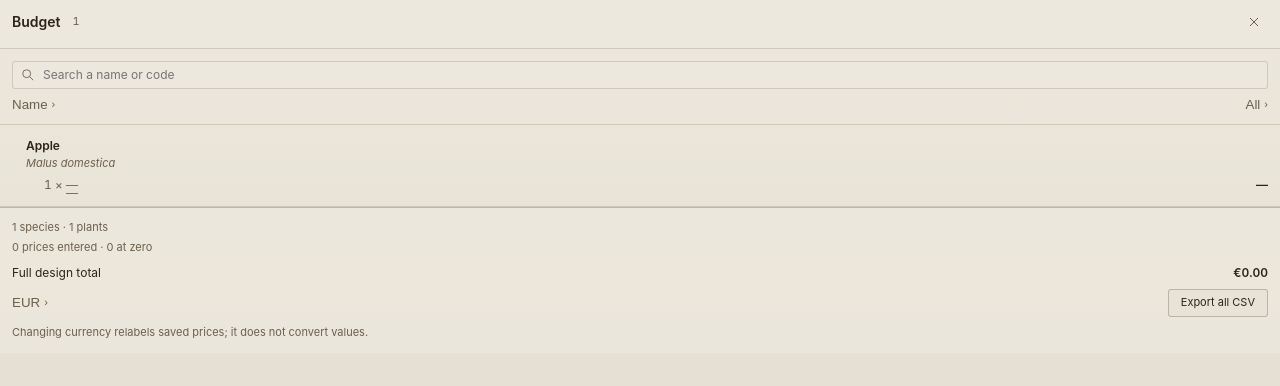
Scenario: Budget Item workbench › rejects invalid blur and lets Escape suppress a later valid blur
Click the button "—".
click(72, 185)  # box 66,176 -> 78,194
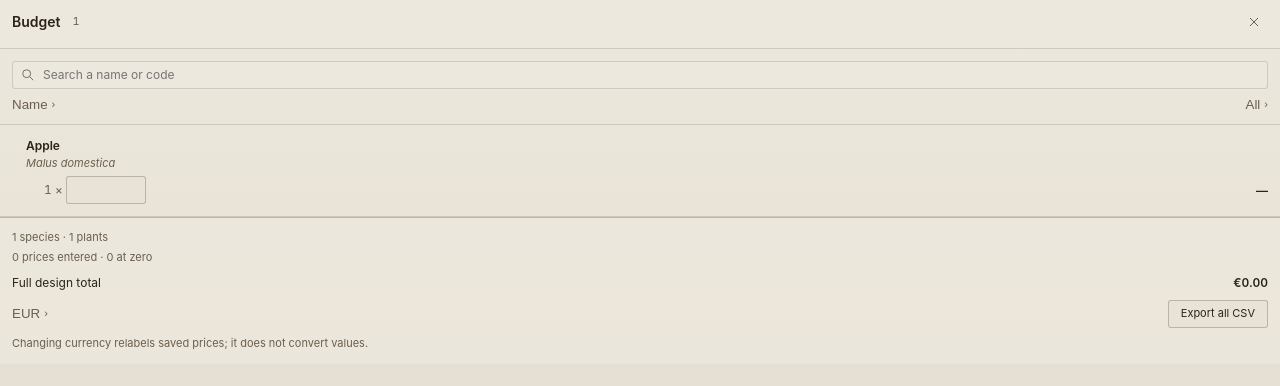
Type "-2" into the number field.
click(106, 190); type("-2")  # box 66,176 -> 146,204
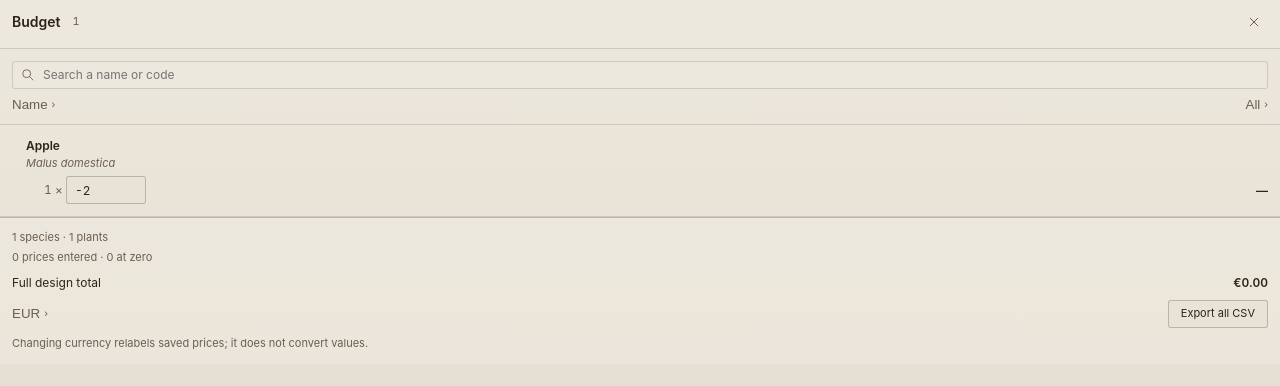
Leave the number field, box 66,176 -> 146,204
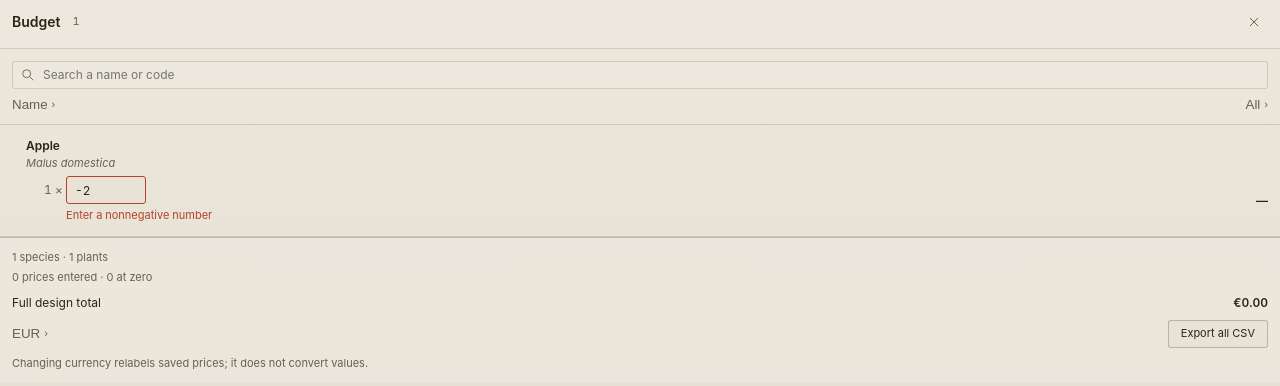
Now the message "Enter a nonnegative number" is shown, box 66,208 -> 212,224
Replace the text in the number field with "7" at (106, 190), box 66,176 -> 146,204
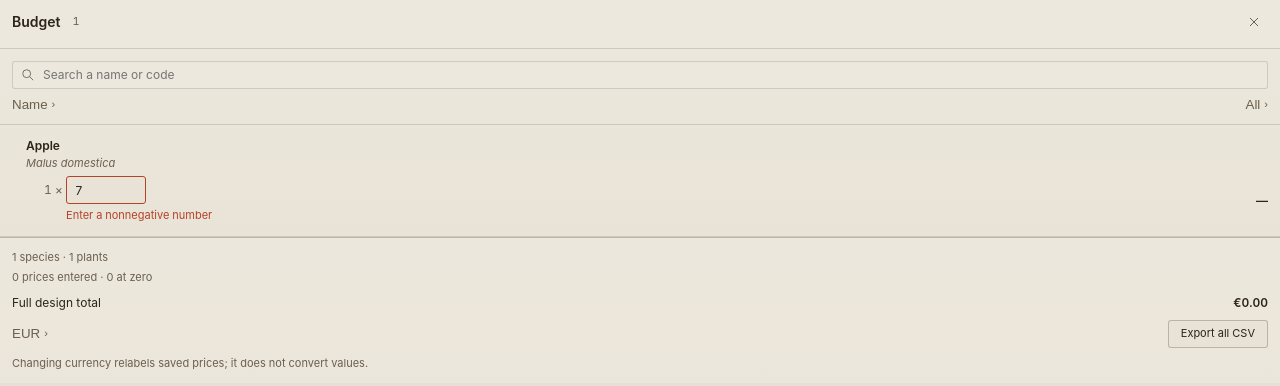
Press Escape in the number field, box 66,176 -> 146,204
Leave the number field, box 66,176 -> 146,204
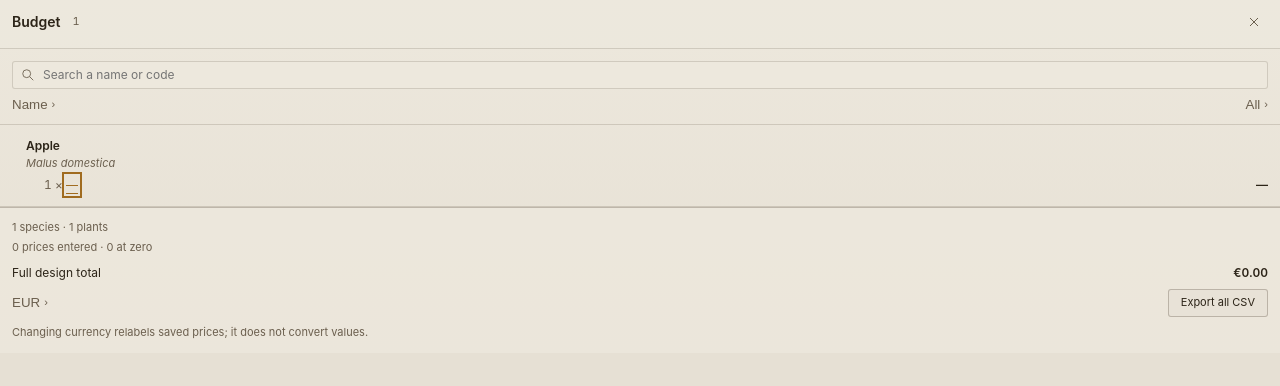
Now the number field is gone
